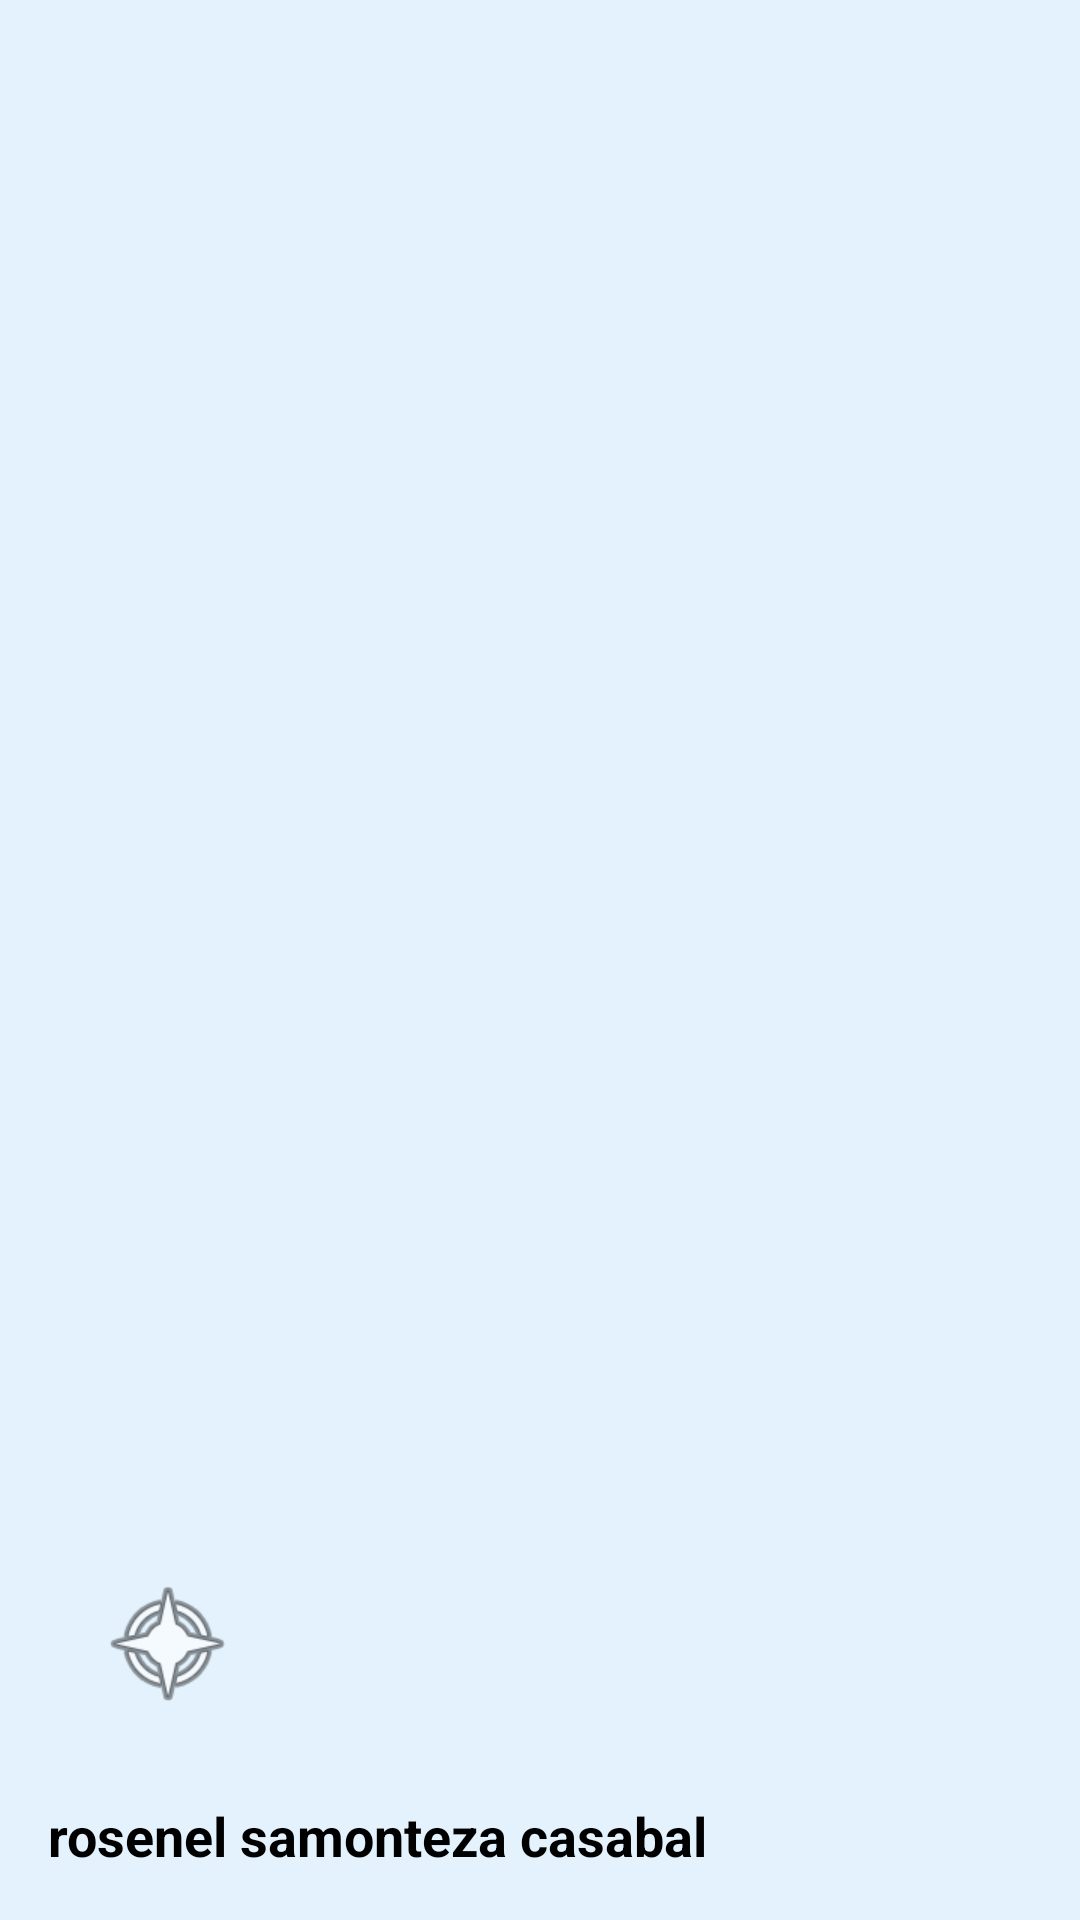

Named icons in this screenshot (1080px x 1920px) and their centers, (x,y):
compass: (167,1644)
